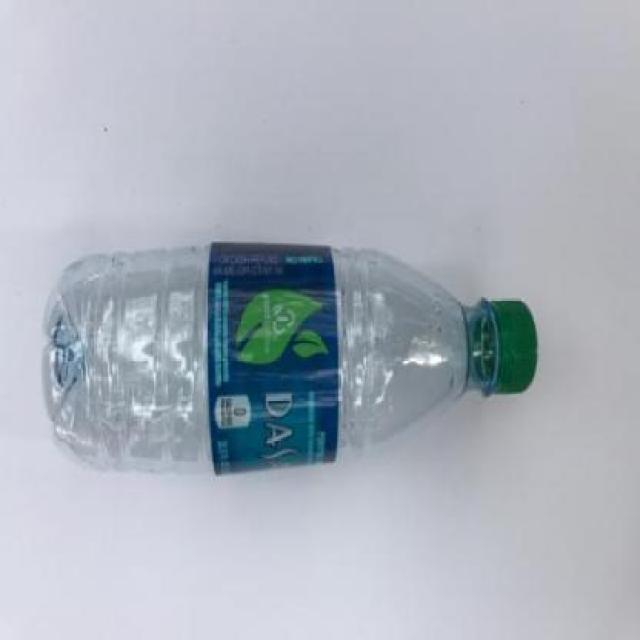Pet_Bottle: (36, 237, 556, 506)
